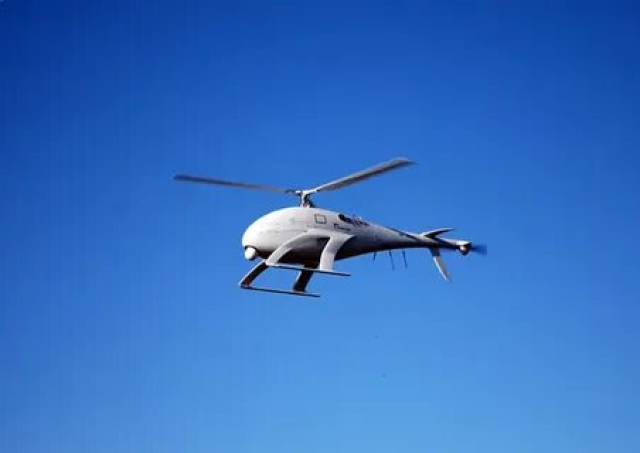military drone: (172, 156, 487, 297)
